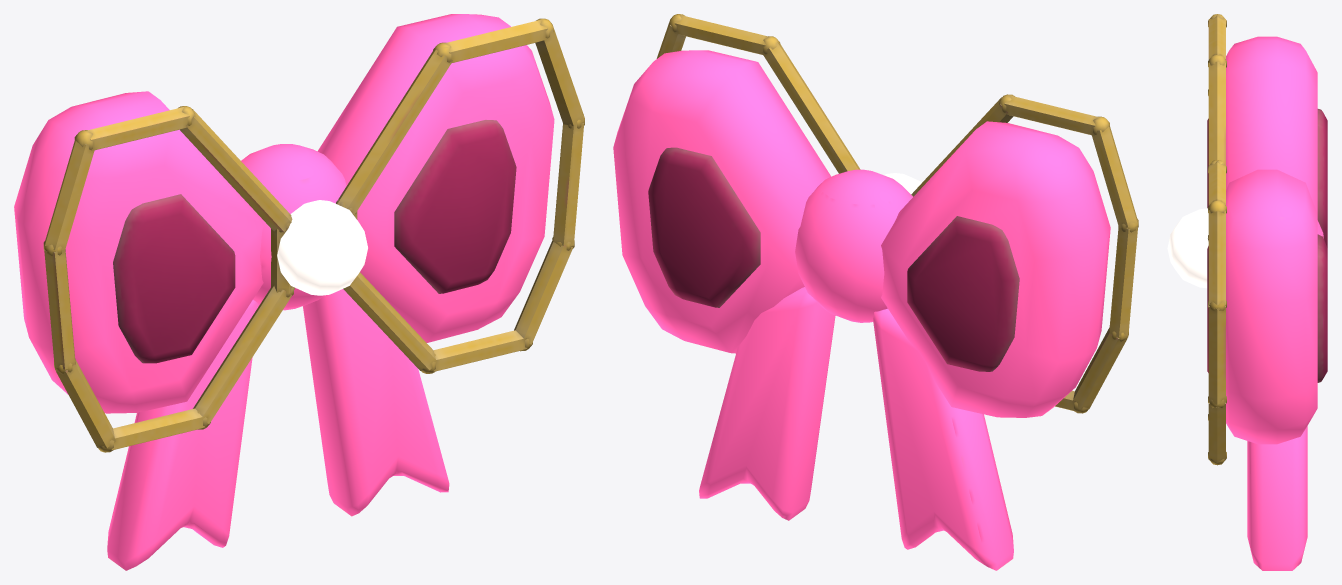
Rendered from rc_coin.glb.
3 views of the same model, side by side, from view 1: azimuth 30°, elevation 25°; view 2: azimuth 150°, elevation 25°; view 3: azimuth 270°, elevation 25° (orthographic). The views are drawn at different scales.
Visible parts, largest first — view 1: rc_coin; view 2: rc_coin; view 3: rc_coin.
Part boxes in pixels (left/top/right/bottom): rc_coin: left=14, top=14, right=584, bottom=570; rc_coin: left=613, top=14, right=1138, bottom=570; rc_coin: left=1167, top=14, right=1327, bottom=570.
Size of the model in its own units: 1.04 by 0.8777 by 0.32.
Materials: 4 (4 with a texture image).
